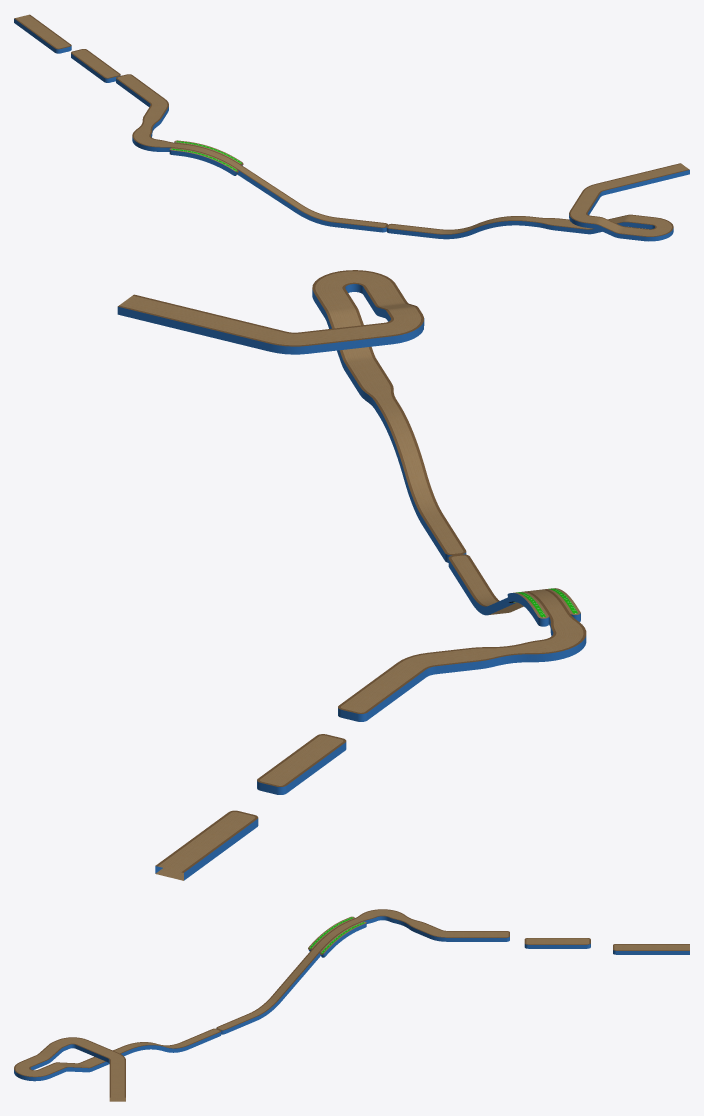
File: ramp_26.FBX
The picture shows the model from 3 angles, top to bottom: view 1: azimuth 30°, elevation 25°; view 2: azimuth 150°, elevation 25°; view 3: azimuth 270°, elevation 25°; orthographic projection. The views are drawn at different scales.
Visible parts, largest first — view 1: ramp_26; view 2: ramp_26; view 3: ramp_26.
Boxes of the visible parts, x1=… form: ramp_26: x1=14, y1=14, x2=689, y2=241; ramp_26: x1=117, y1=270, x2=586, y2=880; ramp_26: x1=14, y1=909, x2=689, y2=1101.
Size of the model in its own units: 11302 by 1636 by 18406.
